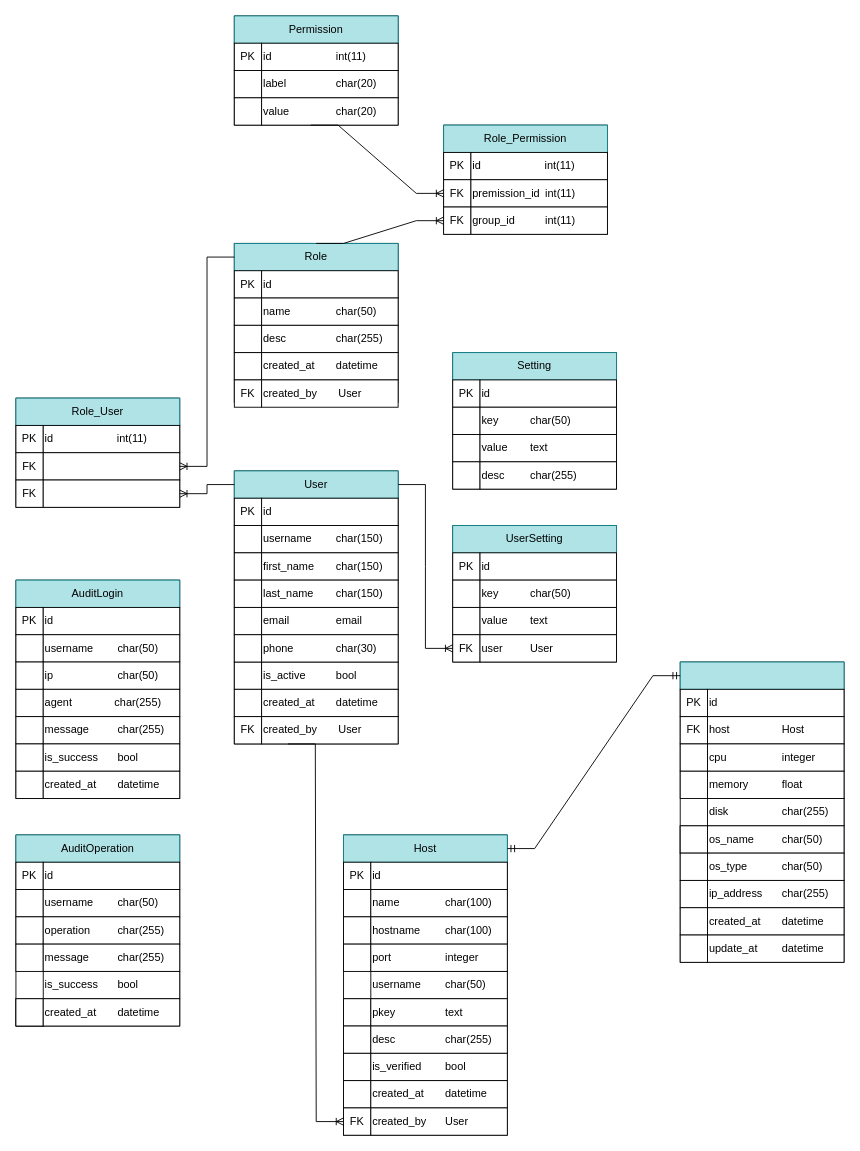
Image size: 860x1151. Some labels were removed from this diagram. Each missing label, with the centre of its shape:
"HostExtend" belongs at (761,675).
"role_id int(11)" belongs at (111,466).
"user_id int(11)" belongs at (111,493).
